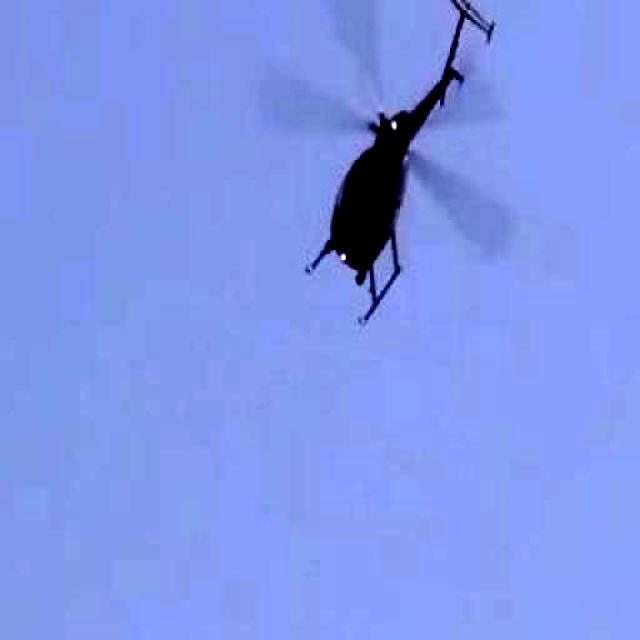drone: (220, 0, 544, 364)
